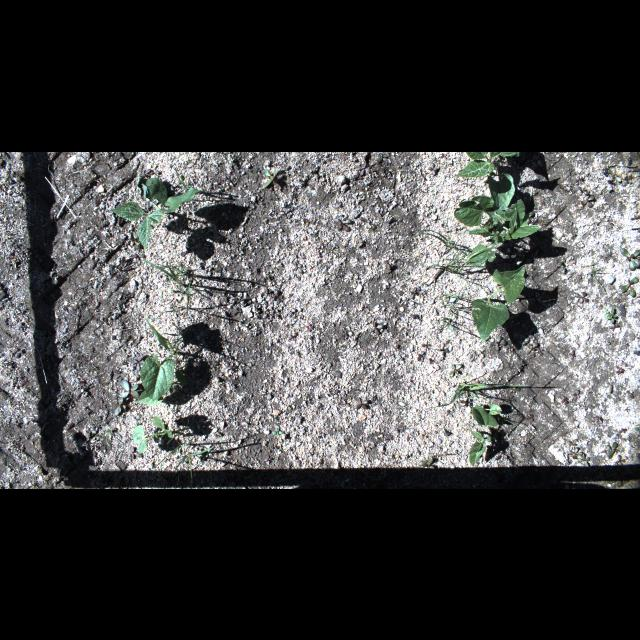crop: (454, 195, 542, 273), (111, 173, 199, 249), (473, 264, 529, 342), (135, 318, 179, 406), (453, 153, 519, 210), (469, 396, 506, 466), (130, 414, 178, 452)
weed: (140, 258, 196, 310), (443, 379, 525, 408), (170, 444, 210, 484), (111, 375, 141, 415), (440, 294, 468, 334), (417, 260, 465, 278), (420, 228, 462, 245), (568, 442, 592, 470), (257, 165, 281, 191), (590, 260, 608, 294), (606, 164, 628, 186), (446, 354, 466, 378), (521, 337, 545, 357), (577, 186, 597, 208), (621, 274, 637, 298), (604, 442, 622, 462), (605, 306, 621, 328), (354, 394, 371, 414), (365, 318, 383, 336), (426, 160, 446, 176), (621, 248, 637, 268), (572, 291, 590, 307), (418, 456, 438, 470), (560, 392, 574, 412), (492, 336, 508, 352), (356, 163, 372, 179), (336, 218, 354, 232), (414, 344, 426, 364), (616, 453, 628, 473), (407, 284, 423, 298), (270, 424, 284, 440), (590, 412, 606, 426), (566, 346, 582, 360), (274, 287, 284, 305), (291, 260, 305, 272), (574, 389, 582, 403), (619, 360, 627, 374), (624, 388, 634, 398), (441, 344, 449, 354), (632, 426, 638, 434)
